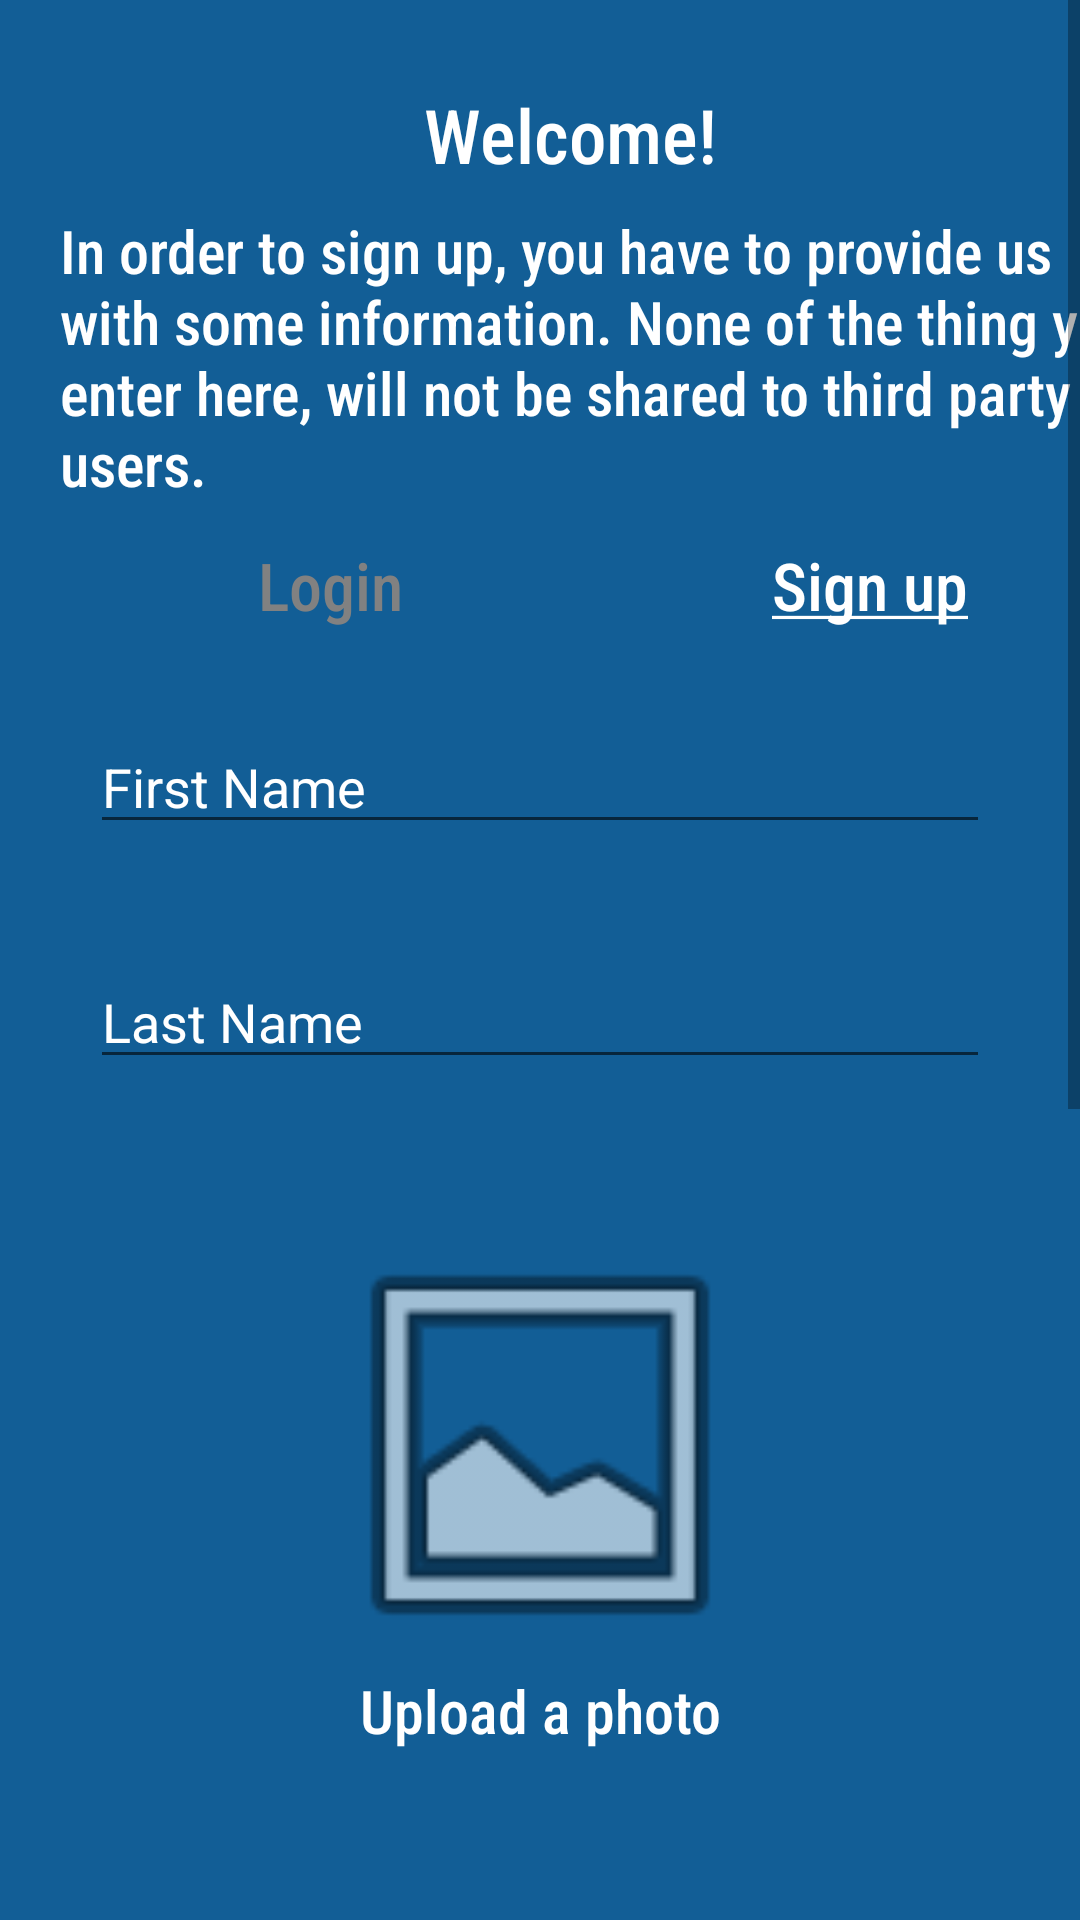

Locate icon controls on the screen. Image size 1080px×1920px, boxes as (x1, y1, x2, y2).
gallery: (371, 1276, 709, 1614)
